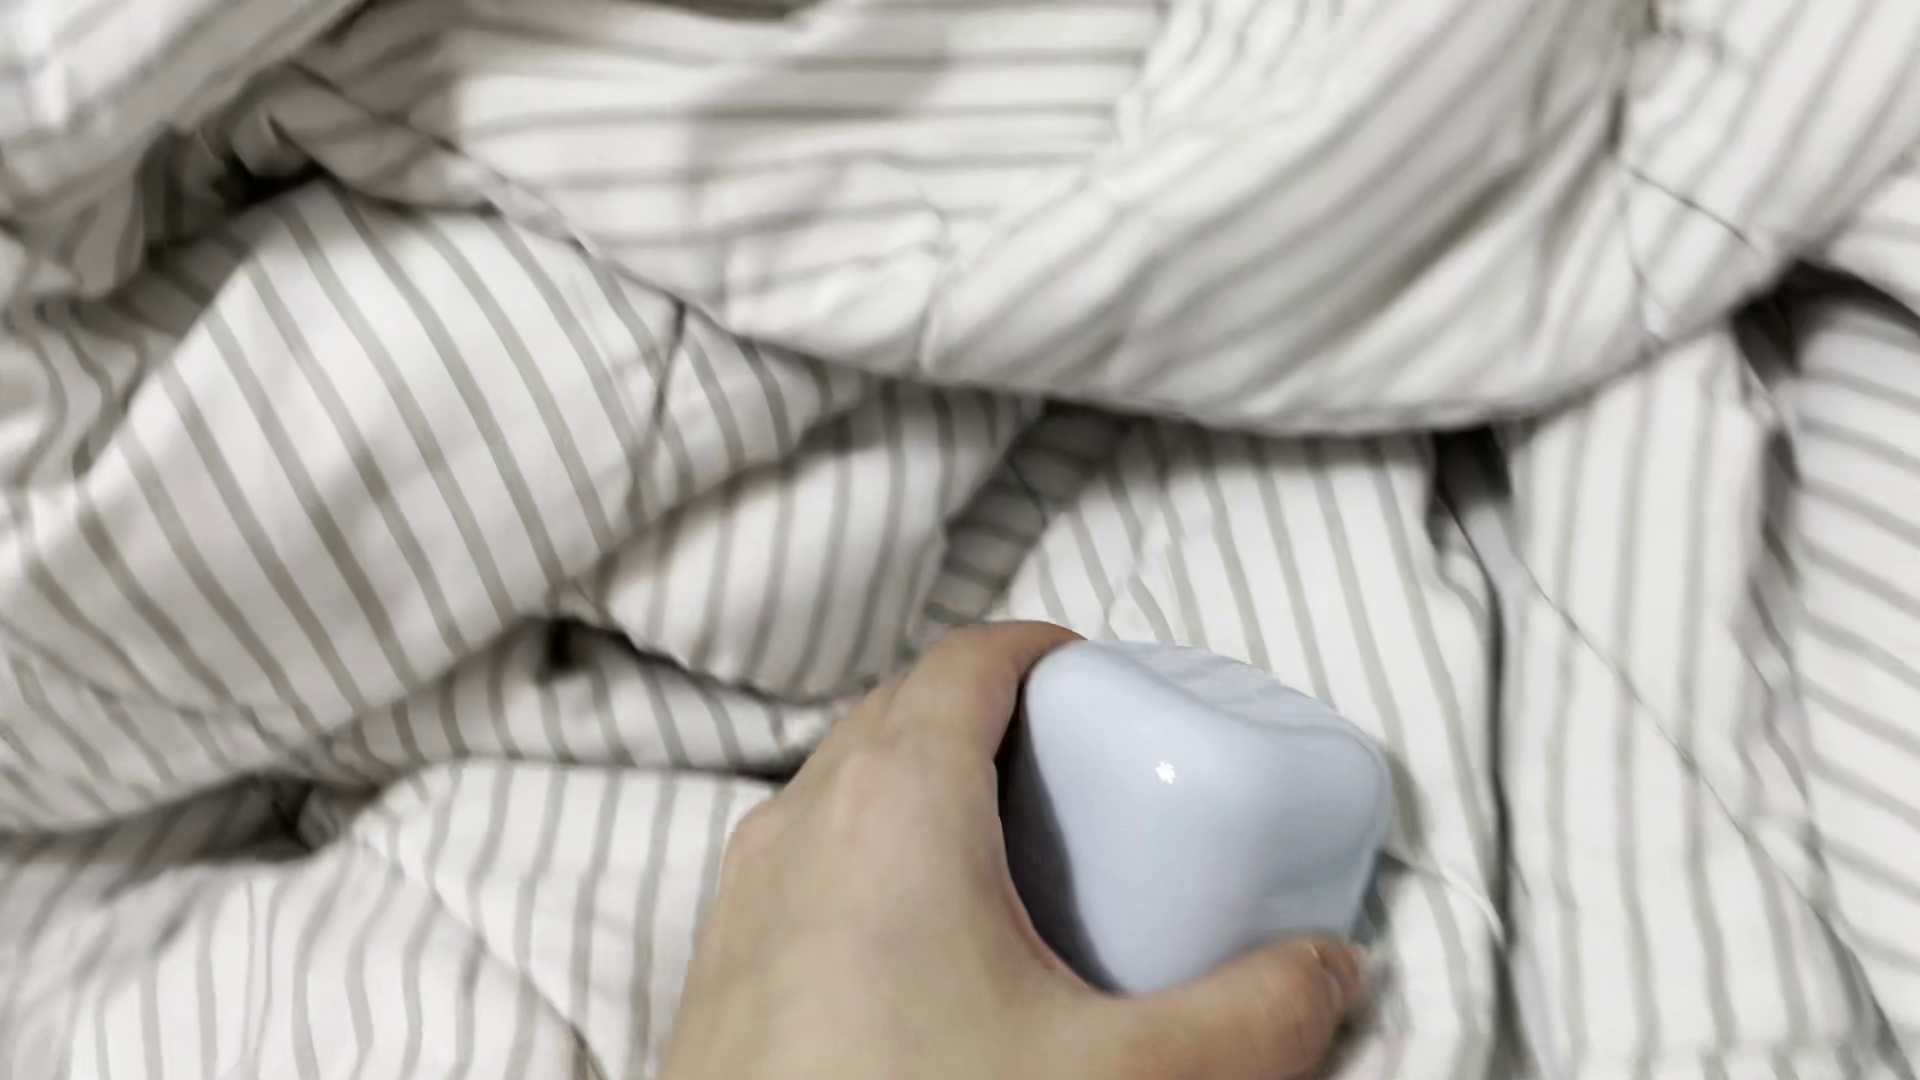cream: (1005, 641, 1393, 992)
